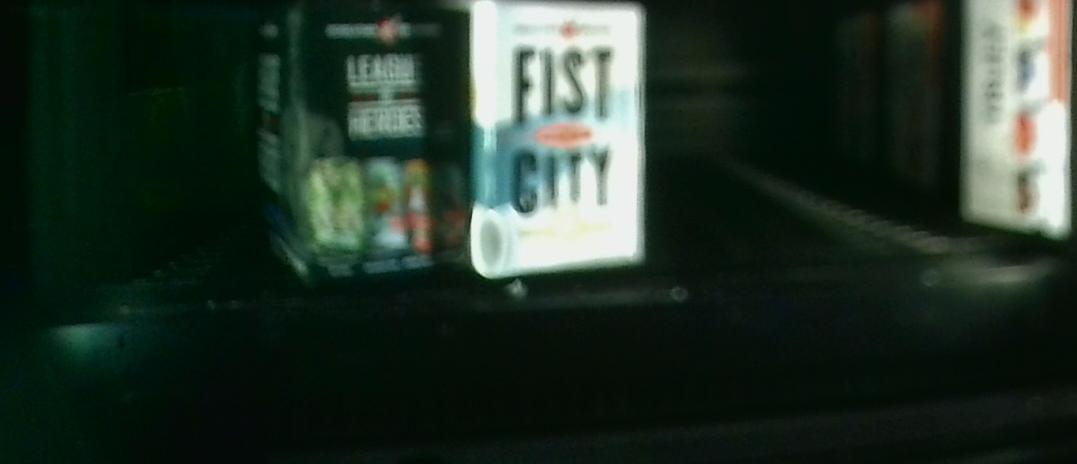bottle: (255, 6, 460, 272), (470, 1, 647, 266)
